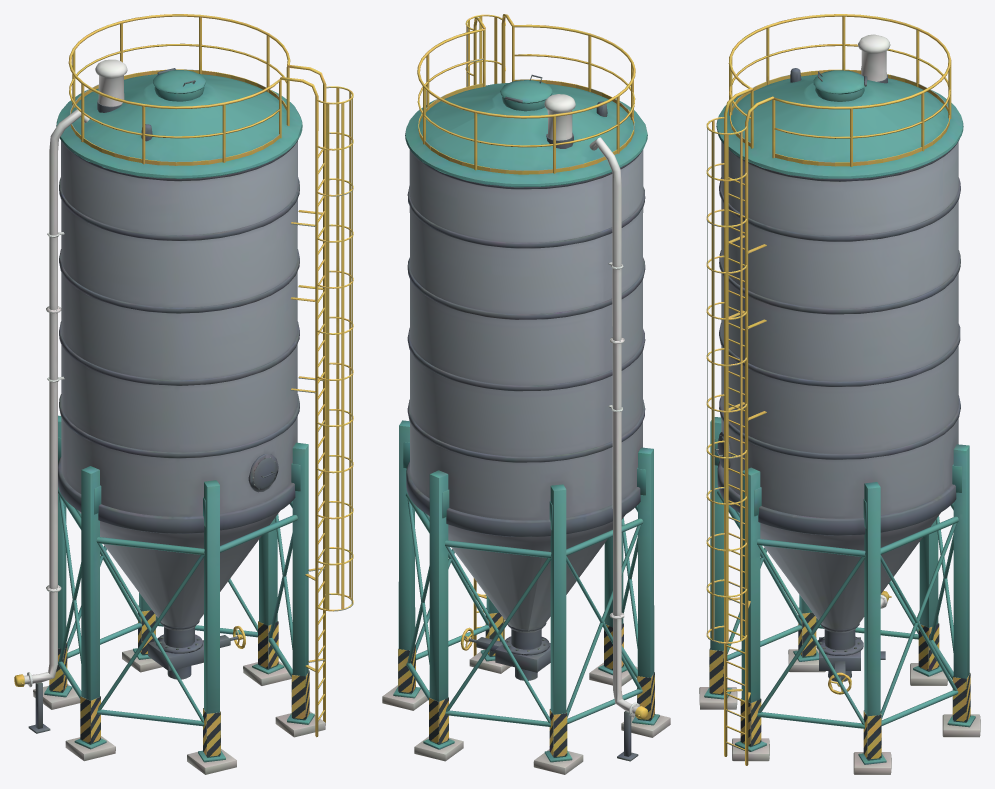
Rendered from arch_silo.glb.
3 renders of one model, left to right at view 1: azimuth 30°, elevation 25°; view 2: azimuth 150°, elevation 25°; view 3: azimuth 270°, elevation 25°, orthographic.
Parts seen in each view (by area): view 1: silo_body; view 2: silo_body; view 3: silo_body.
Part boxes in pixels (x1=…): silo_body: x1=14, y1=14, x2=353, y2=774; silo_body: x1=382, y1=14, x2=670, y2=774; silo_body: x1=699, y1=14, x2=980, y2=774.
Bounding box in the file's own units: 5.16 × 12.23 × 4.74.
1 material, 1 textured.
